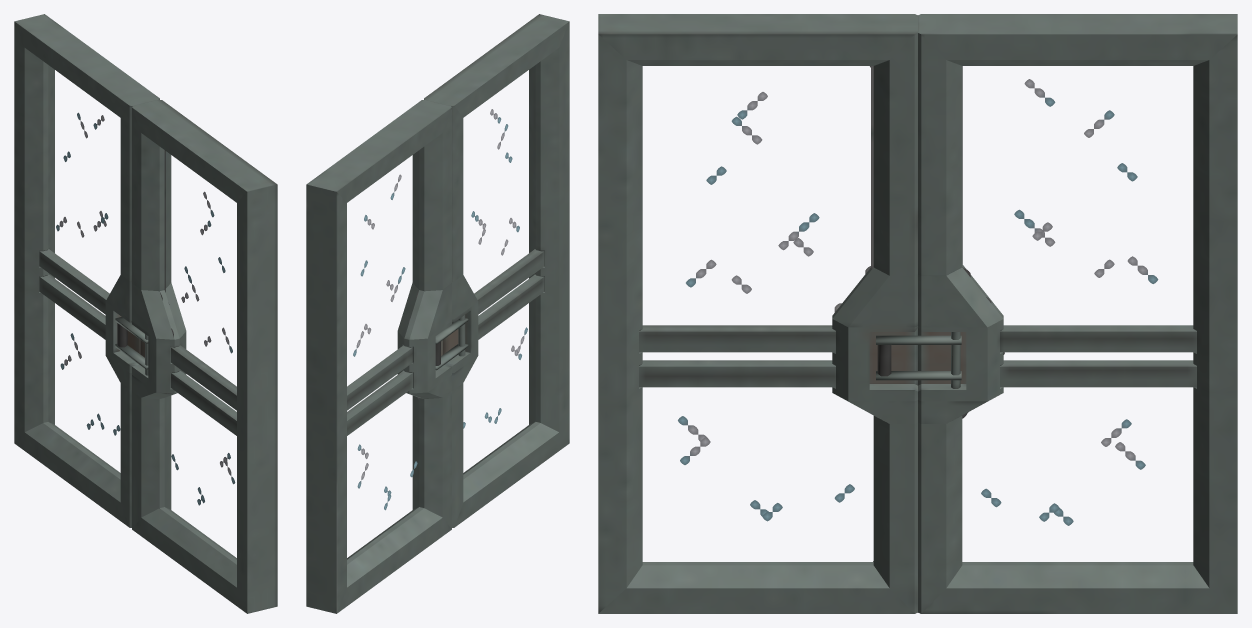
File: qe_sliding_door.obj
3 renders of one model, left to right at view 1: azimuth 30°, elevation 25°; view 2: azimuth 150°, elevation 25°; view 3: azimuth 270°, elevation 25°, orthographic. The views are drawn at different scales.
Parts seen in each view (by area): view 1: leftDoor, rightDoor; view 2: rightDoor, leftDoor; view 3: rightDoor, leftDoor.
Boxes of the visible parts, x1=… form: leftDoor: x1=115, y1=99, x2=277, y2=613; rightDoor: x1=14, y1=14, x2=159, y2=527; rightDoor: x1=306, y1=99, x2=451, y2=613; leftDoor: x1=424, y1=14, x2=569, y2=527; rightDoor: x1=876, y1=14, x2=1237, y2=613; leftDoor: x1=598, y1=14, x2=917, y2=613.
Bounding box in the file's own units: 0.15 × 2 × 2.
